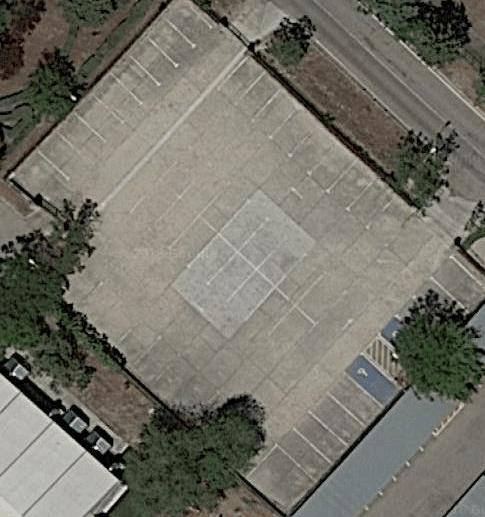parkingspot: (12, 0, 222, 206), (212, 50, 422, 251), (157, 140, 352, 326), (125, 176, 319, 362), (58, 262, 226, 430), (272, 348, 404, 487), (426, 252, 485, 318)
